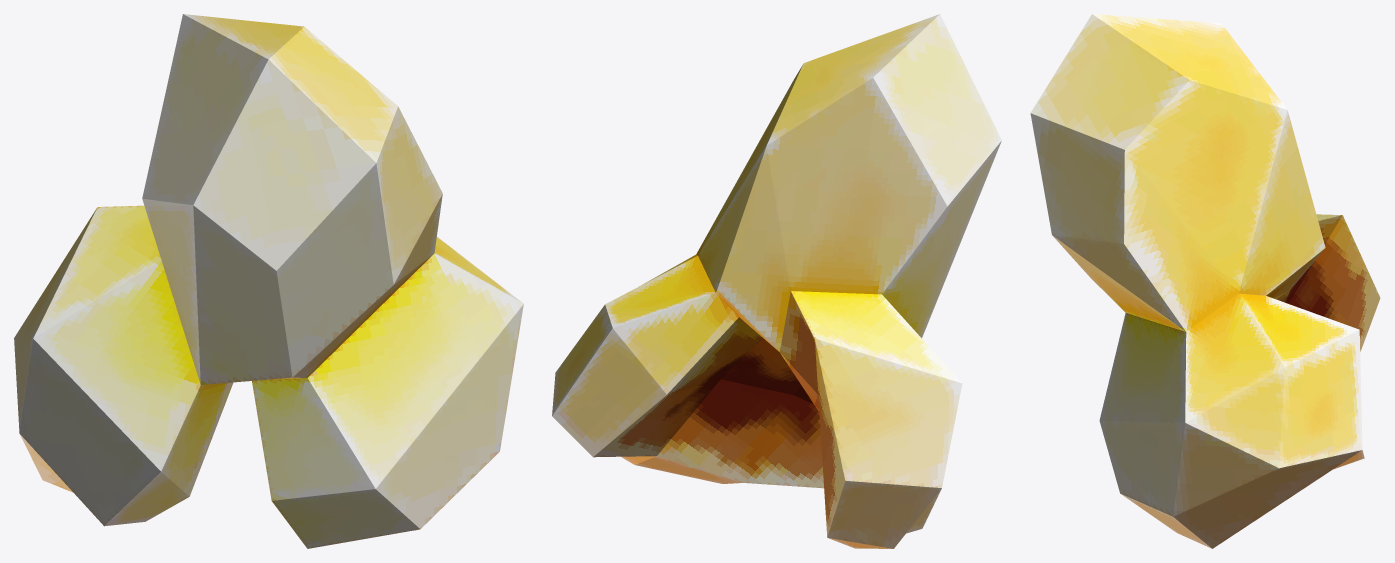
The model's file is item_popcorn.glb.
3 renders of one model, left to right at view 1: azimuth 30°, elevation 25°; view 2: azimuth 150°, elevation 25°; view 3: azimuth 270°, elevation 25°, orthographic. The views are drawn at different scales.
Visible parts, largest first — view 1: PopcornThree; view 2: PopcornThree; view 3: PopcornThree.
Part boxes in pixels (bbox=[...]): PopcornThree: bbox=[14, 14, 523, 548]; PopcornThree: bbox=[552, 14, 1001, 548]; PopcornThree: bbox=[1030, 14, 1380, 548].
Bounding box in the file's own units: 0.4778 × 0.5527 × 0.3969.
Materials: 1 (1 with a texture image).
